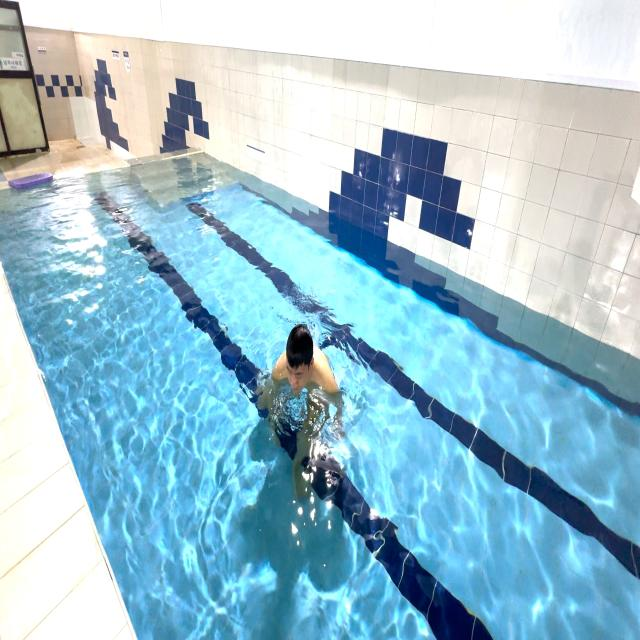Swimming: (256, 298, 346, 470)
